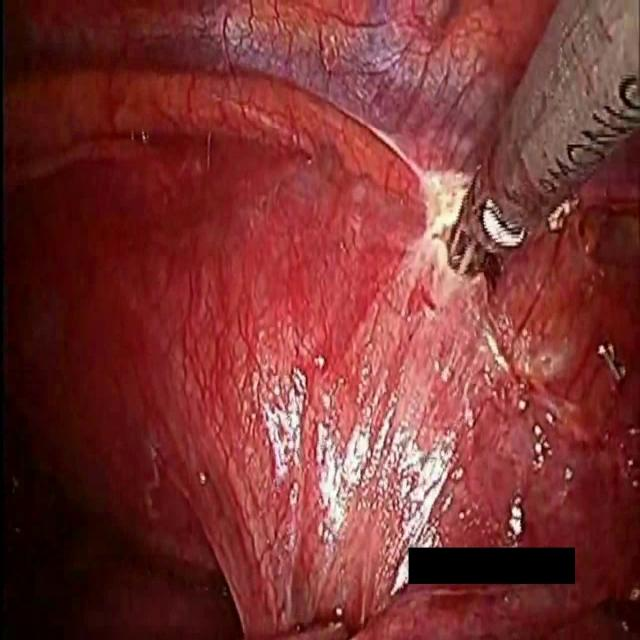surgical-area: (396, 588, 583, 639)
surgical-tool: (438, 0, 640, 290)
